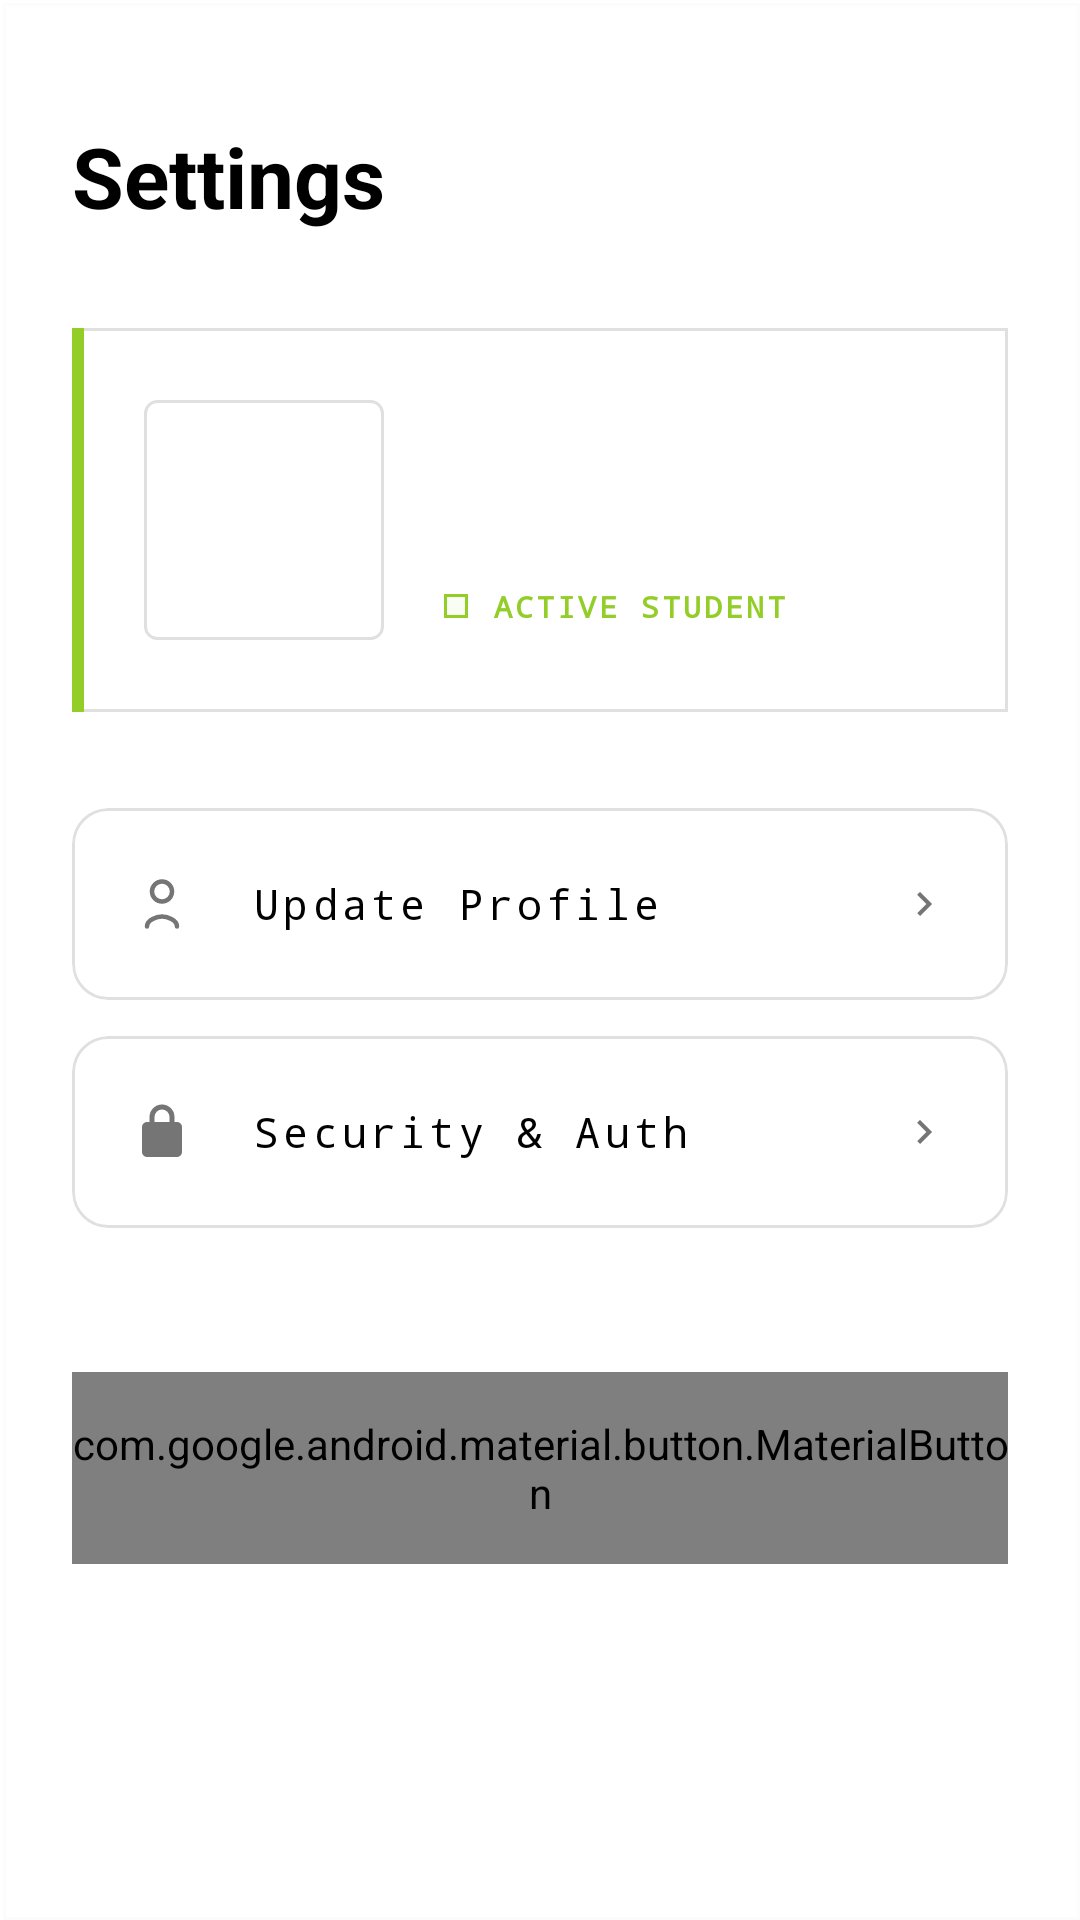

Icon bounding boxes for this 1080w x 1920h phone screenshot, format [x1, y1, x2, y2]:
chevron right: [917, 892, 932, 916], [917, 1120, 932, 1144]
lock: [142, 1104, 182, 1157]
